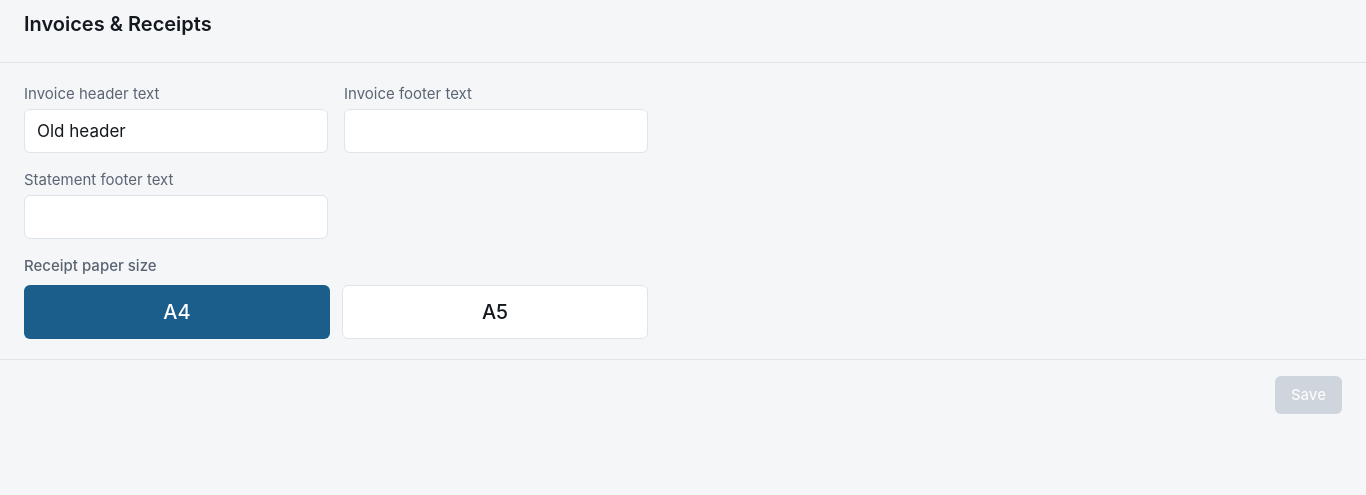
Test: InvoiceReceiptsSettingsSection — ONE Save (owner correction), paper size as a normal dirty-tracked field › paper-size save fails while identity text save succeeds: error names paper size, section stays dirty
Expected: the field showing "Old header" is shown, [24,109,328,153]
Click the button "A5" at (495, 312), box [342,285,648,339]
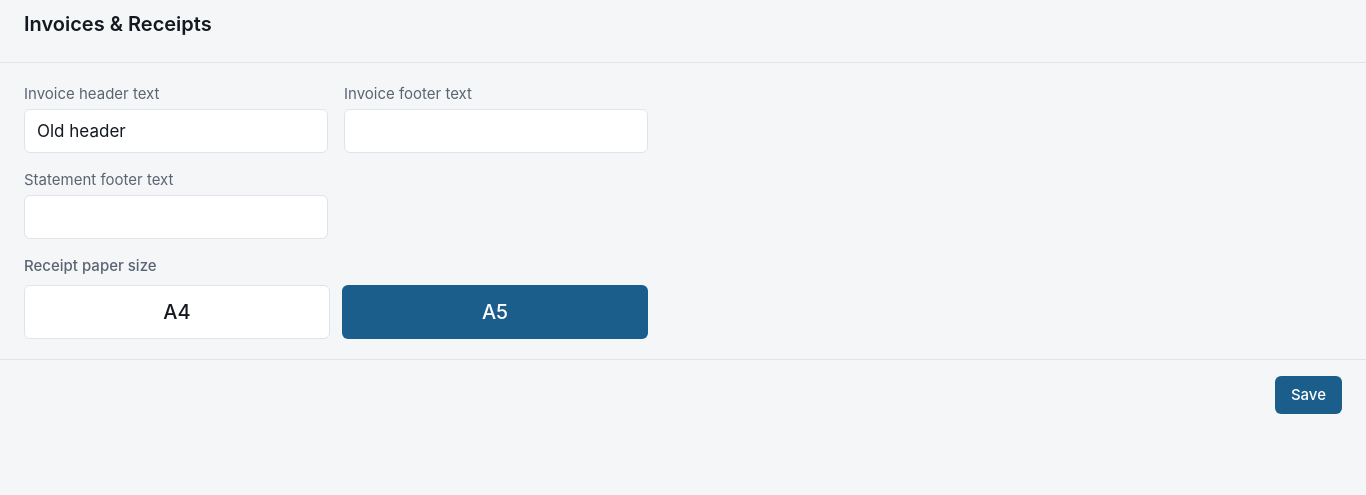
Click the button "Save" at (1308, 395), box [1275,376,1342,414]
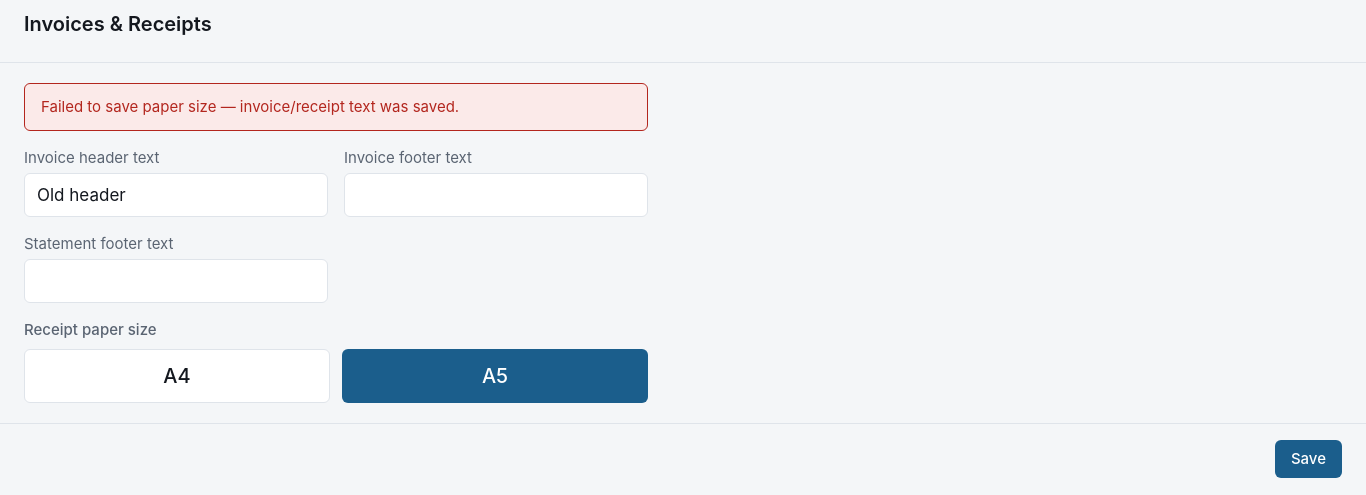
Result: the button "Save" is enabled at [1275,440,1342,478]
Result: the text "Failed to save paper size — invoice/receipt text was saved." is shown at [41,96,459,118]
